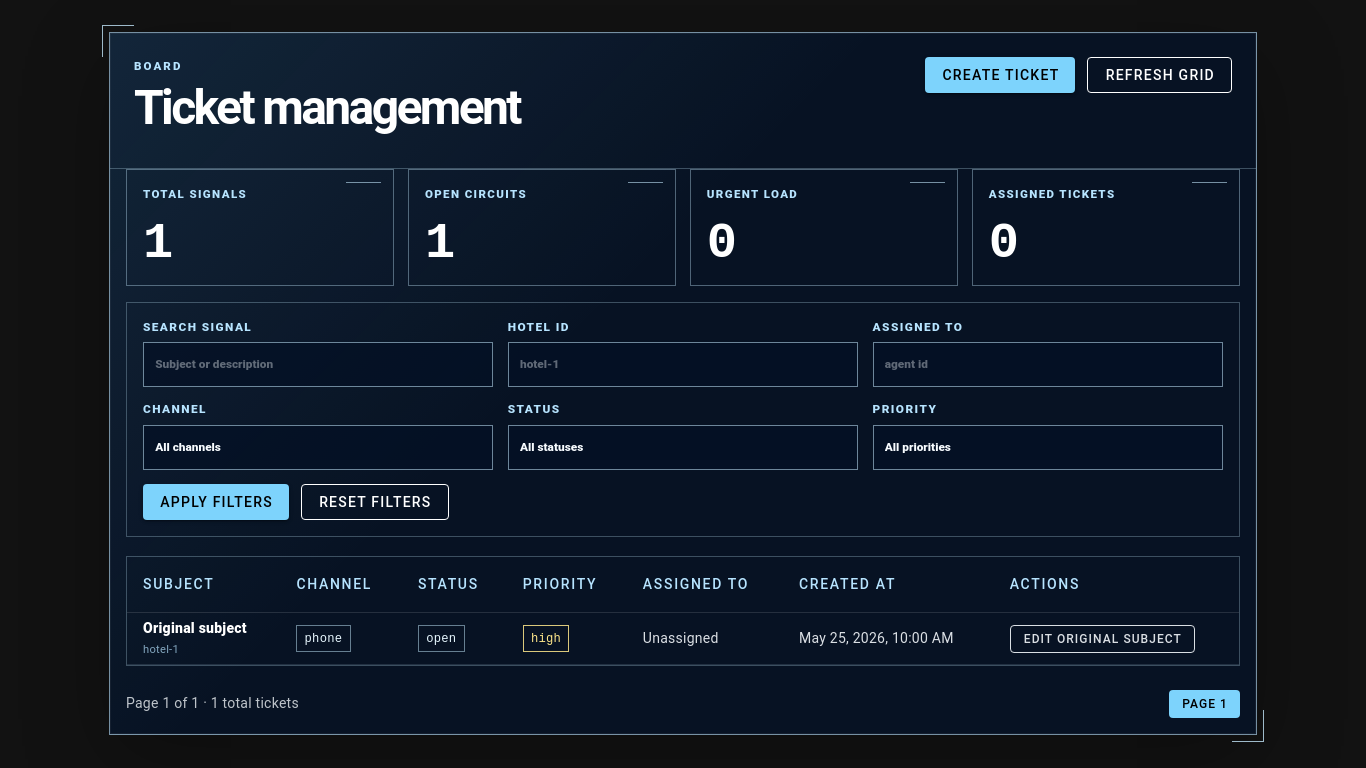
Test: TicketListView › shows edit API failures without replacing the row with unconfirmed data
The width and height of the screenshot is (1366, 768).
Click the button "Edit Original subject" at (1102, 639), box [1010, 625, 1195, 653]
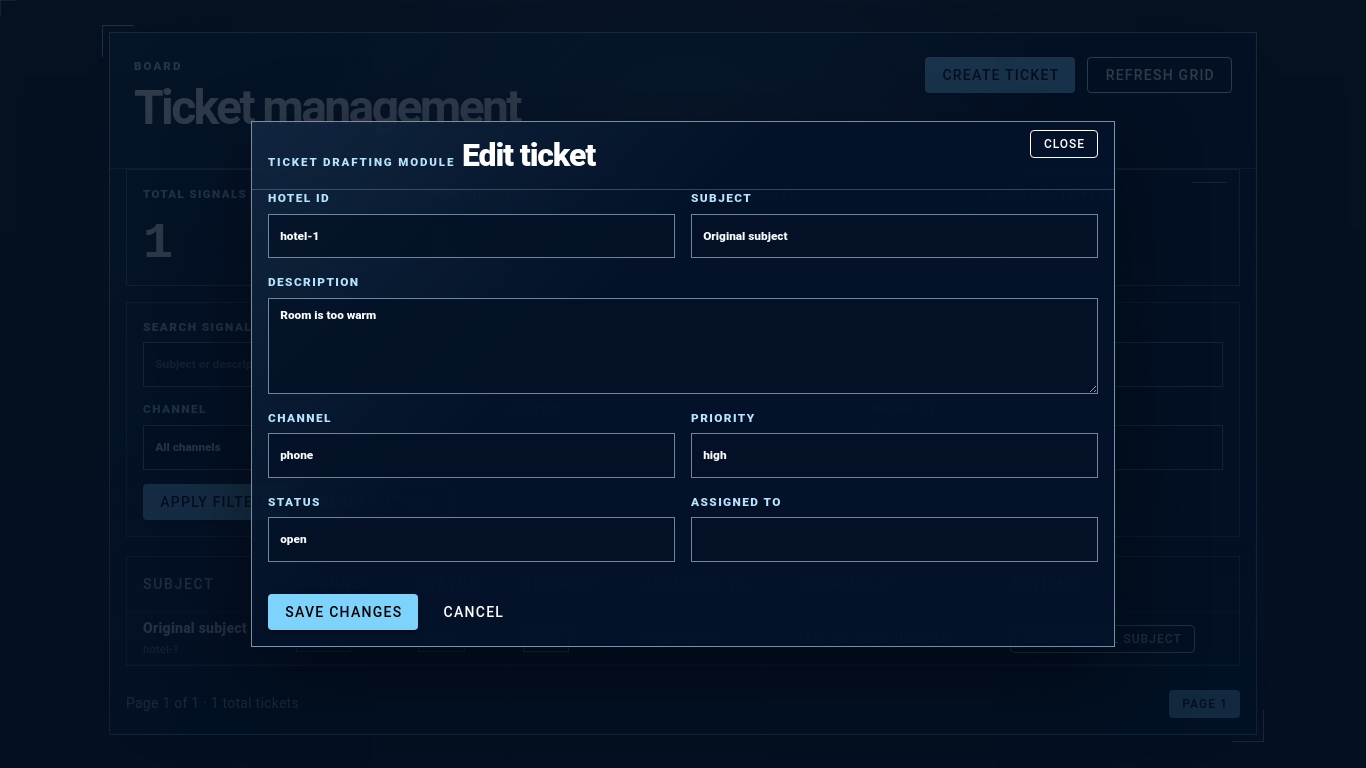
Replace the text in the field named "Subject" with "Unconfirmed subject" at (894, 236), box [691, 214, 1098, 258]
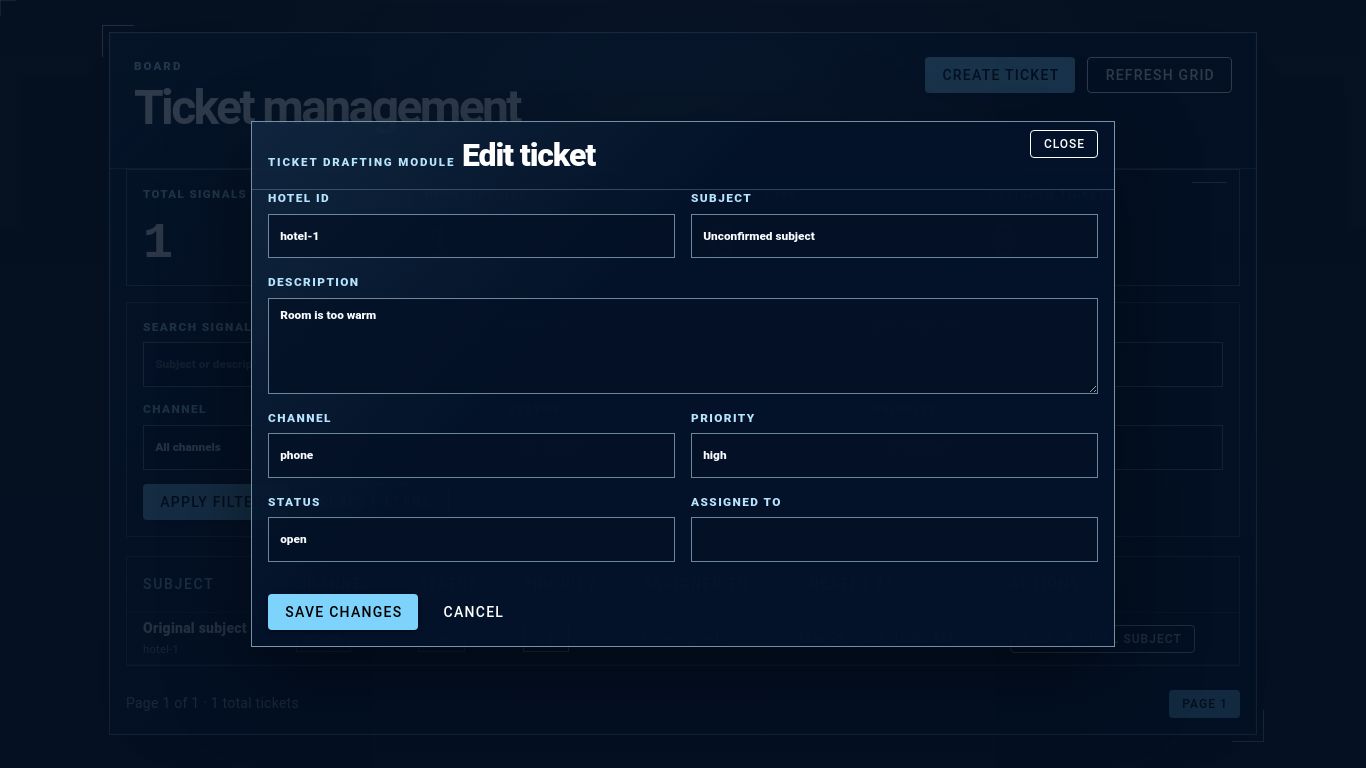
Click the button "Save changes" at (343, 612), box [268, 594, 418, 630]
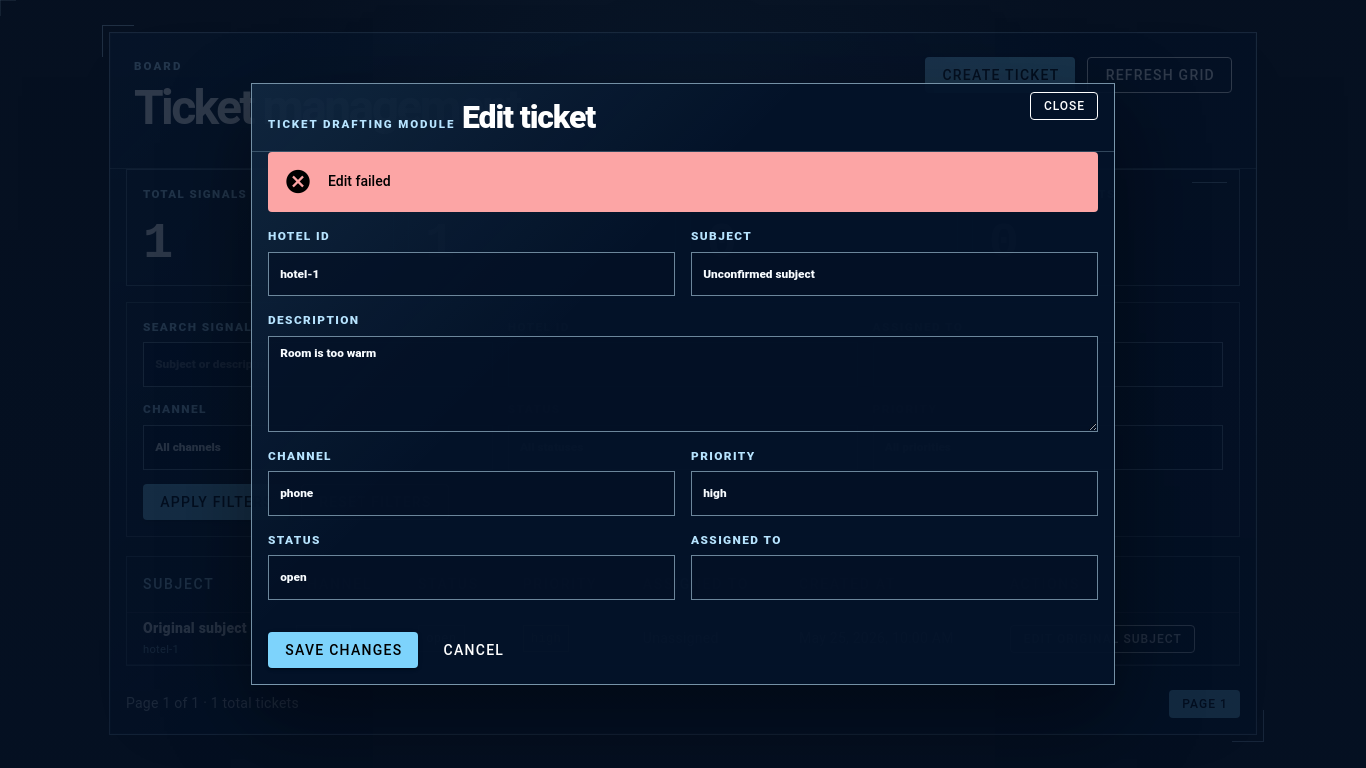
Expected: the text "Original subject" is shown, [143, 618, 264, 639]
Now the text "Edit failed" is shown, box [328, 173, 391, 189]
